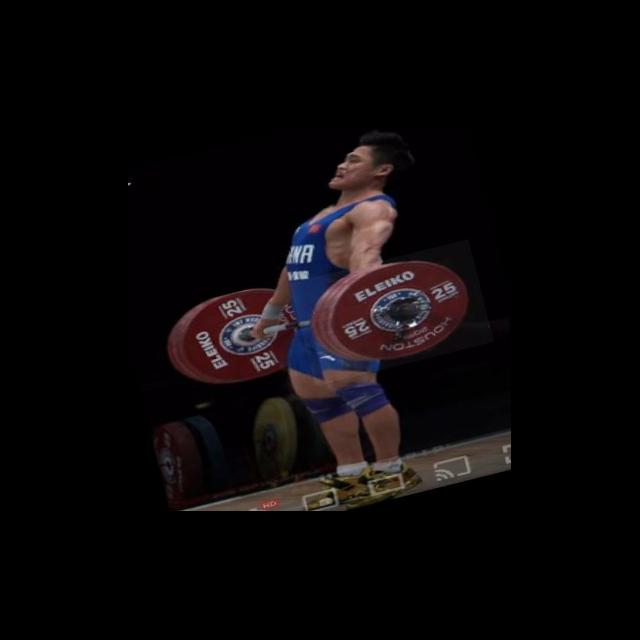barbell: (290, 239, 494, 386)
